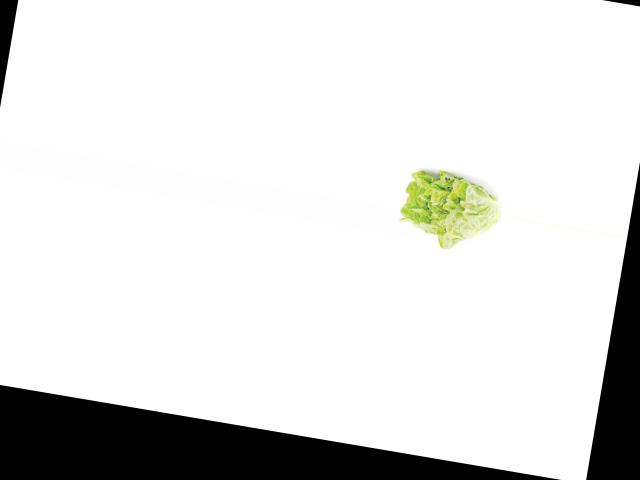lettuce: (396, 159, 507, 256)
